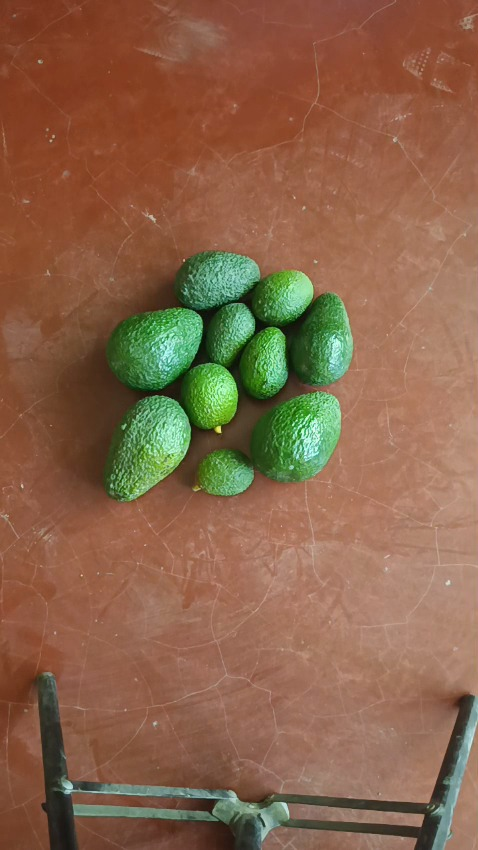Primera: (101, 394, 190, 499), (105, 308, 205, 391), (250, 391, 341, 482)
Segunda: (289, 293, 352, 386), (174, 250, 261, 311)
Tercera: (180, 362, 238, 430), (249, 270, 313, 327), (238, 327, 288, 399), (205, 301, 256, 368), (199, 449, 254, 496)
